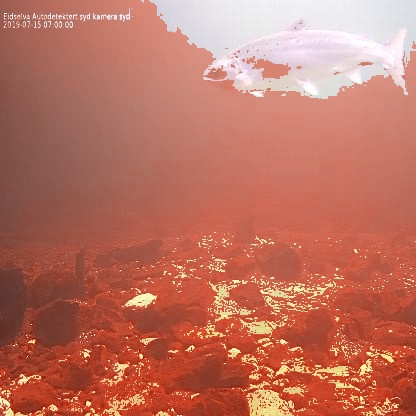salmon: (200, 14, 411, 104)
